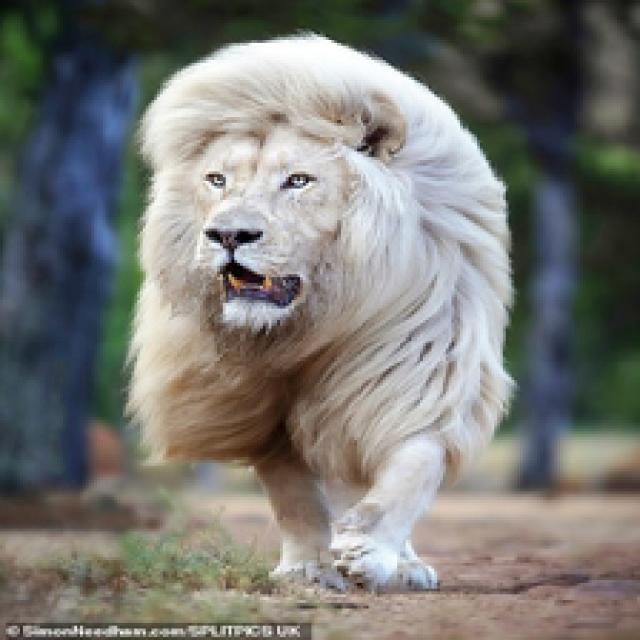lion: (125, 23, 530, 564)
